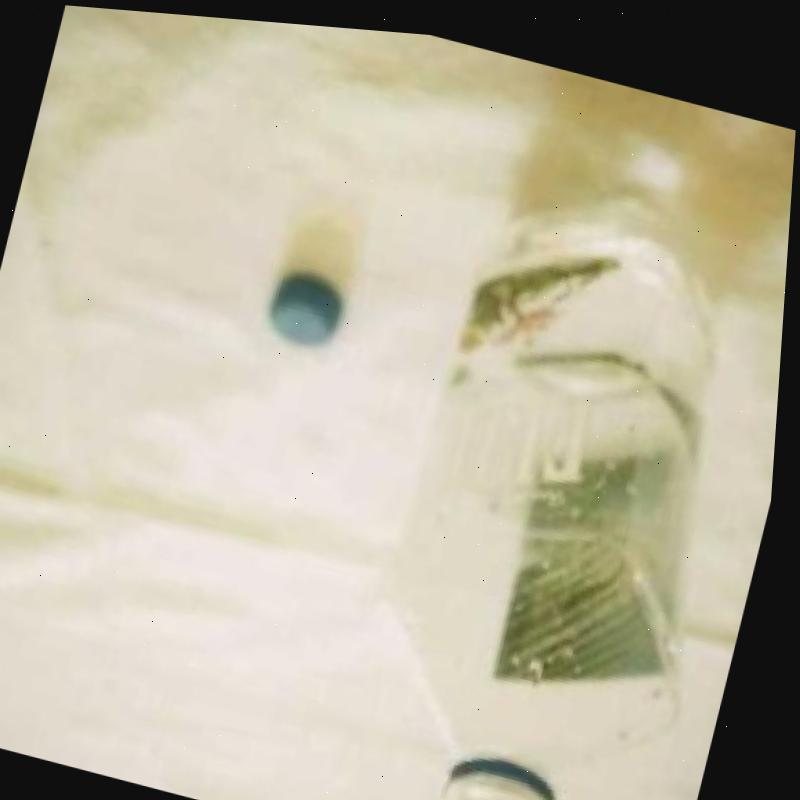botella: (331, 146, 794, 800)
